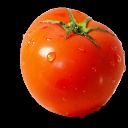tomato: (21, 7, 124, 119)
